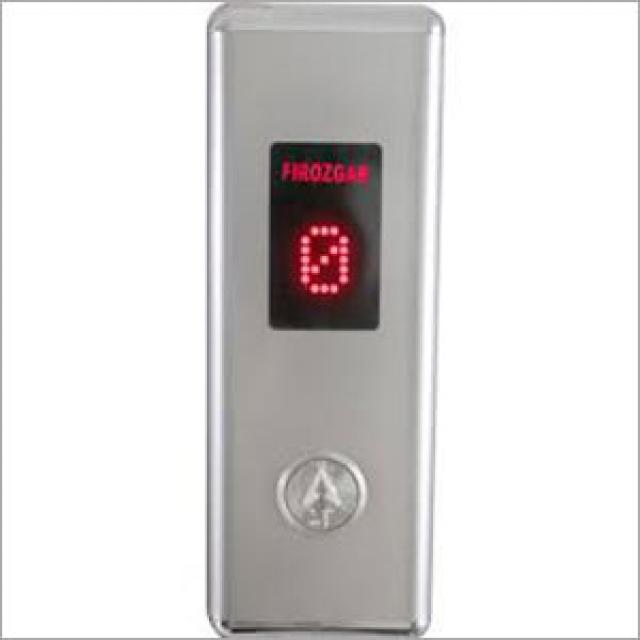up: (273, 448, 367, 535)
